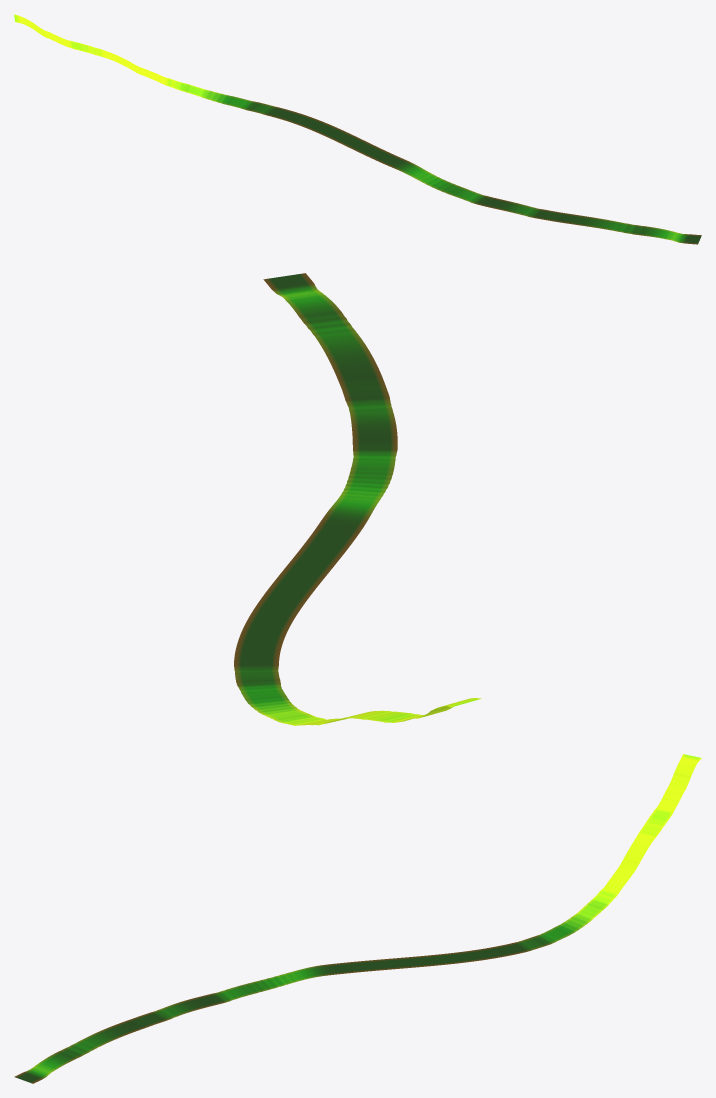
Rendered from River.fbx.
3 views of the same model, one above another, from view 1: azimuth 30°, elevation 25°; view 2: azimuth 150°, elevation 25°; view 3: azimuth 270°, elevation 25° (orthographic). The views are drawn at different scales.
Visible parts, largest first — view 1: River_LOD0; view 2: River_LOD0; view 3: River_LOD0.
Boxes of the visible parts, x1=… form: River_LOD0: x1=14, y1=14, x2=701, y2=244; River_LOD0: x1=234, y1=273, x2=481, y2=725; River_LOD0: x1=14, y1=754, x2=701, y2=1083.
Bounding box in the file's own units: 327 × 77.53 × 435.
